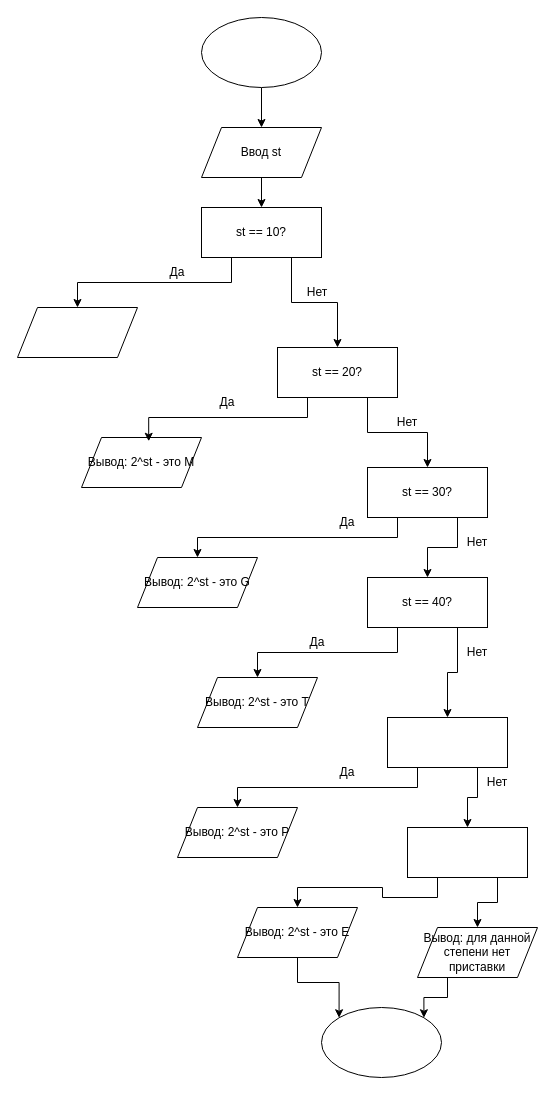
The diagram is 555 pixels wide and 1095 high, and some of its shapes have lost their labels. Each missing label, with the centre of its shape:
"st == 50?" belongs at point (447, 742).
"st == 60?" belongs at point (467, 852).
"Вывод: 2^st - это K" belongs at point (77, 332).
"Конец" belongs at point (381, 1042).
"Начало" belongs at point (261, 52).
